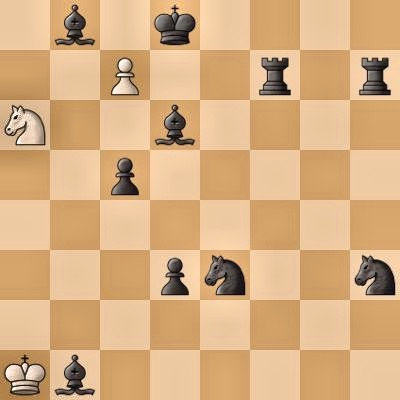black-bishop: (50, 0, 100, 50), (150, 100, 200, 150), (50, 350, 100, 400)
black-king: (150, 0, 200, 50)
black-knight: (200, 250, 250, 300), (350, 250, 400, 300)
black-pawn: (100, 150, 150, 200), (150, 250, 200, 300)
black-rook: (250, 50, 300, 100), (350, 50, 400, 100)
white-king: (0, 350, 50, 400)
white-knight: (0, 100, 50, 150)
white-pawn: (100, 50, 150, 100)
